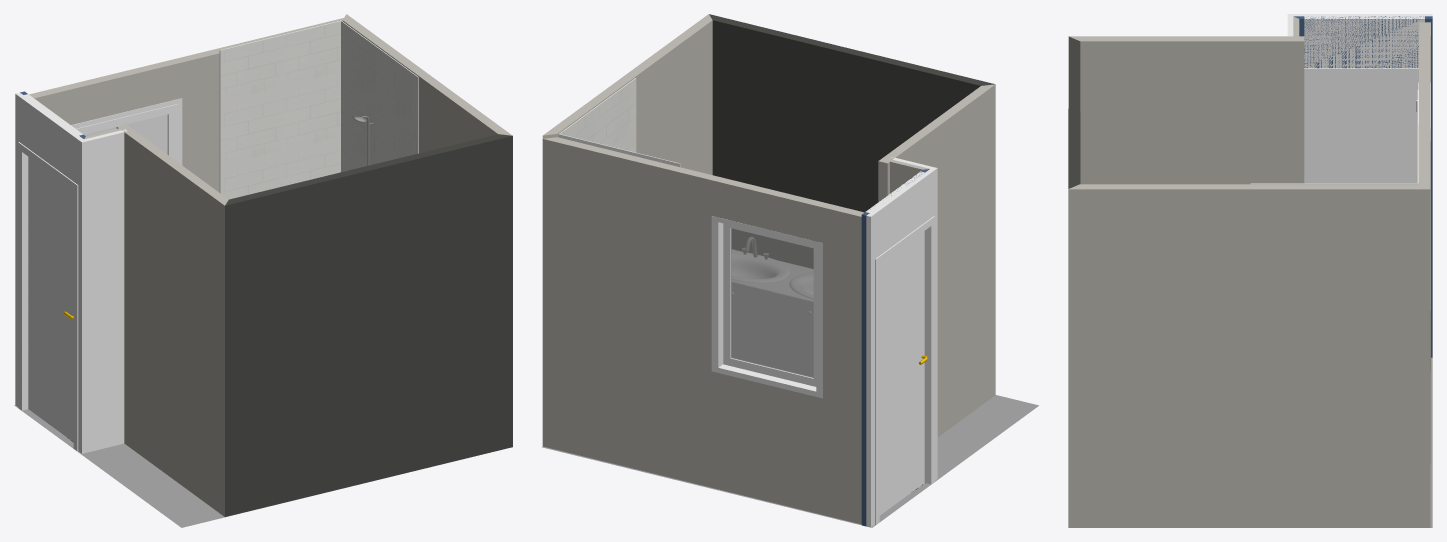
The model's file is bathroom_plan.obj.
3 renders of one model, left to right at view 1: azimuth 30°, elevation 25°; view 2: azimuth 150°, elevation 25°; view 3: azimuth 270°, elevation 25°, orthographic. The views are drawn at different scales.
Visible parts, largest first — view 1: wall_3_16, wall_4_22, wall_10_58, wall_5_28, sweethome3d_opening_on_hinge_1_door_71, wall_1_5, wall_9_53, frame_63, ground_1, wall_6_34, wall_2_11, wall_8_46 (+9 smaller); view 2: wall_1_4, wall_3_17, wall_4_22, sweethome3d_opening_on_hinge_1_door_71, sweethome3d_window_pane_on_hinge_1_78, wall_2_11, wall_6_34, frame_63, frame_72, ground_1, sweethome3d_opening_on_hinge_1_door_112, sweethome3d_opening_on_hinge_2_door_128 (+12 smaller); view 3: wall_2_10, wall_4_23, sweethome3d_opening_on_hinge_1_door_71, wall_7_40, wall_6_35, wall_2_12, wall_1_6, wall_1_7, wall_2_13, wall_3_18, wall_3_19, frame_63 (+3 smaller).
Boxes of the visible parts, x1=… form: wall_3_16: x1=225, y1=136, x2=512, y2=516; wall_4_22: x1=116, y1=127, x2=224, y2=516; wall_10_58: x1=220, y1=21, x2=340, y2=199; wall_5_28: x1=82, y1=132, x2=124, y2=453; sweethome3d_opening_on_hinge_1_door_71: x1=28, y1=157, x2=73, y2=441; wall_1_5: x1=34, y1=53, x2=219, y2=192; wall_9_53: x1=341, y1=21, x2=418, y2=172; frame_63: x1=18, y1=142, x2=78, y2=451; ground_1: x1=14, y1=405, x2=411, y2=527; wall_6_34: x1=15, y1=94, x2=81, y2=453; wall_2_11: x1=342, y1=20, x2=497, y2=153; wall_8_46: x1=19, y1=96, x2=71, y2=177; wall_1_4: x1=542, y1=139, x2=861, y2=524; wall_3_17: x1=712, y1=20, x2=980, y2=268; wall_4_22: x1=883, y1=84, x2=995, y2=437; sweethome3d_opening_on_hinge_1_door_71: x1=879, y1=231, x2=924, y2=515; sweethome3d_window_pane_on_hinge_1_78: x1=731, y1=228, x2=813, y2=377; wall_2_11: x1=550, y1=20, x2=712, y2=174; wall_6_34: x1=866, y1=168, x2=937, y2=527; frame_63: x1=875, y1=216, x2=934, y2=524; frame_72: x1=711, y1=216, x2=822, y2=398; ground_1: x1=542, y1=395, x2=1038, y2=527; sweethome3d_opening_on_hinge_1_door_112: x1=772, y1=292, x2=813, y2=376; sweethome3d_opening_on_hinge_2_door_128: x1=732, y1=282, x2=771, y2=366; wall_2_10: x1=1068, y1=189, x2=1430, y2=527; wall_4_23: x1=1080, y1=41, x2=1304, y2=184; sweethome3d_opening_on_hinge_1_door_71: x1=1304, y1=75, x2=1417, y2=183; wall_7_40: x1=1304, y1=19, x2=1424, y2=68; wall_6_35: x1=1299, y1=19, x2=1432, y2=357; wall_2_12: x1=1068, y1=186, x2=1429, y2=189; wall_1_6: x1=1424, y1=22, x2=1430, y2=188; wall_1_7: x1=1418, y1=22, x2=1424, y2=186; wall_2_13: x1=1075, y1=184, x2=1423, y2=186; wall_3_18: x1=1068, y1=36, x2=1074, y2=188; wall_3_19: x1=1074, y1=39, x2=1080, y2=186; frame_63: x1=1304, y1=68, x2=1418, y2=89.
Bounding box in the file's own units: 272 × 244 × 238.
